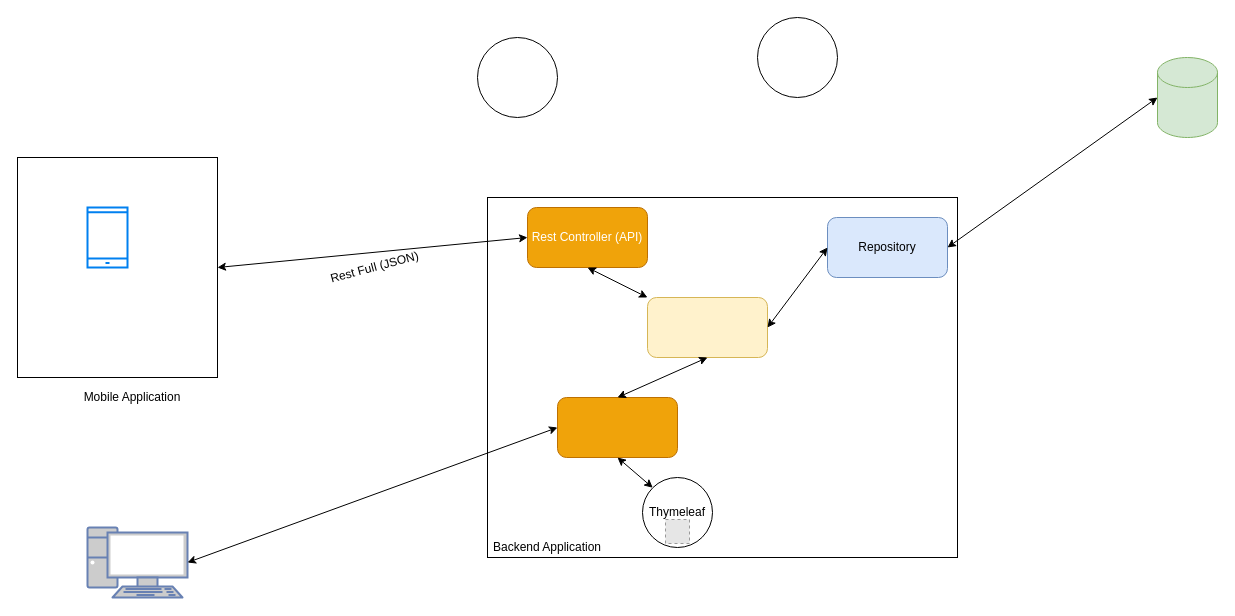
The diagram is 1235 pixels wide and 616 high, and some of its shapes have lost their labels. Grey dashed boxes stand in for pictures. The shapes that lost their labels are listed below. From the top down, each one's centre as x and y in pixels, then its label:
At (x=707, y=327): "Service".
At (x=617, y=427): "Controller (Web)".
